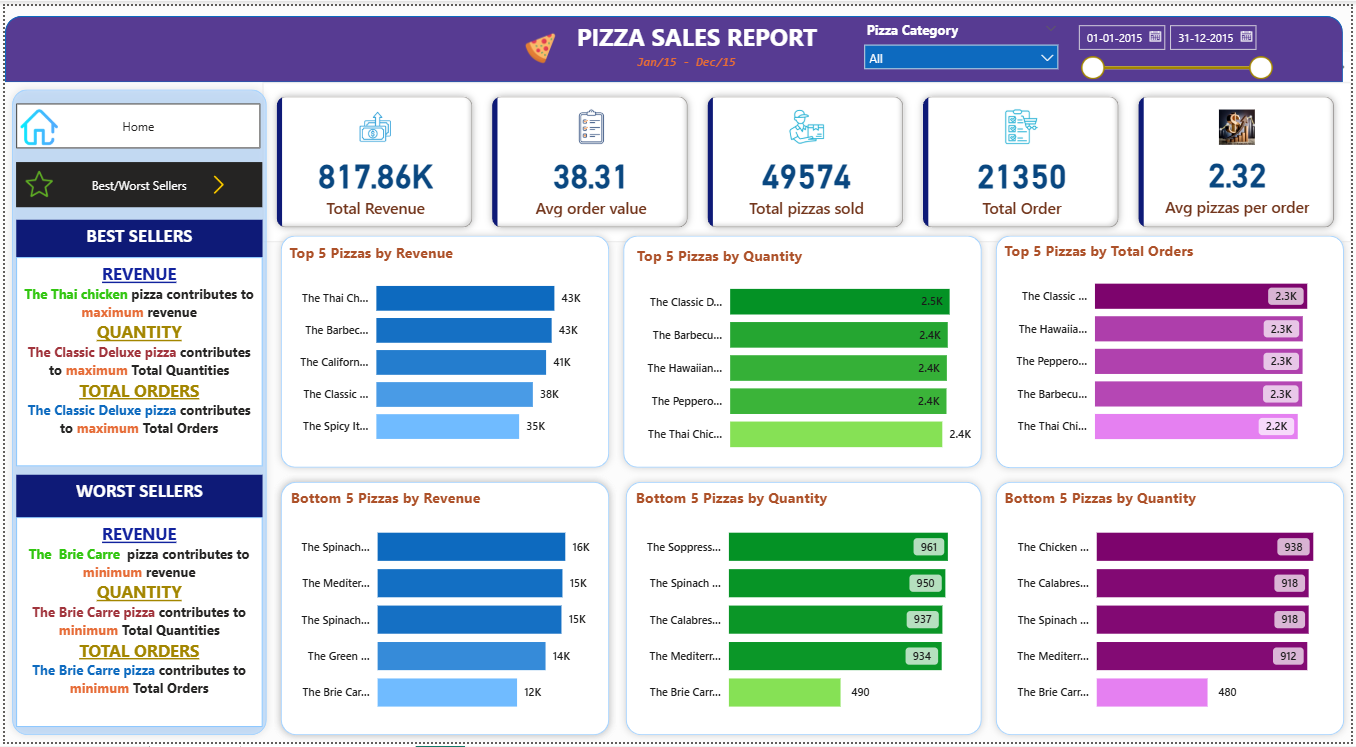

The dashboard page shown, as its layout file describes it:
{"tool":"powerbi","page":{"name":"Best/Worst Sellers","canvas":[1500,820],"ordinal":1},"visuals":[{"type":"cardVisual","fields":{"Data":["pizza_sales.Total Revenue","pizza_sales.Avg order value","pizza_sales.Total pizzas sold","pizza_sales.Total Order","pizza_sales.Avg pizzas per order"]},"box":[286.2,85.2,1214.1,178.5],"z":0},{"type":"shape","box":[0,11.3,1490.7,74],"z":1000},{"type":"textbox","box":[551.5,11.1,438.7,51.5],"z":2000},{"type":"textbox","box":[699.1,47.4,136.5,37.6],"z":3000},{"type":"image","box":[564,25.1,65.5,44.6],"z":4000},{"type":"shape","box":[299.4,247.9,381.6,274.4],"z":5000},{"type":"shape","box":[0,85,299.4,735.3],"z":6000},{"type":"textbox","box":[12.5,238.1,274.4,41.8],"z":7000},{"type":"textbox","box":[12.5,279.9,274.4,232.6],"z":8000},{"type":"textbox","box":[12.5,569.6,274.4,234],"z":9000},{"type":"textbox","box":[12.5,522.3,274.4,47.4],"z":10000},{"type":"slicer","fields":{"Values":["pizza_sales.pizza_category"]},"box":[947,11.1,236.8,73.8],"z":11000},{"type":"slicer","fields":{"Values":["pizza_sales.order_date"]},"box":[1183.8,11.1,236.8,73.8],"z":12000},{"type":"shape","box":[681,247.9,415,274.4],"z":13000},{"type":"shape","box":[1096.7,247.6,403.6,275],"z":14000},{"type":"shape","box":[299.4,522.3,381.6,298],"z":15000},{"type":"shape","box":[1096,522.3,403.9,298],"z":16000},{"type":"shape","box":[299.4,522,381.6,298],"z":17000},{"type":"shape","box":[683.8,522.3,412.2,298],"z":18000},{"type":"barChart","title":"Top 5 Pizzas by Revenue","fields":{"Category":["pizza_sales.pizza_name"],"Y":["pizza_sales.Total Revenue"]},"box":[312,263.7,355.4,239.6],"z":19000},{"type":"barChart","title":"Bottom 5 Pizzas by Revenue","fields":{"Category":["pizza_sales.pizza_name"],"Y":["pizza_sales.Total Revenue"]},"box":[313.6,535.5,355.4,266.9],"z":20000},{"type":"barChart","title":"Top 5 Pizzas by Quantity","fields":{"Category":["pizza_sales.pizza_name"],"Y":["pizza_sales.Total pizzas sold"]},"box":[699.1,266,383,246.5],"z":21000},{"type":"barChart","title":"Bottom 5 Pizzas by Quantity","fields":{"Category":["pizza_sales.pizza_name"],"Y":["pizza_sales.Total pizzas sold"]},"box":[697.9,535.5,382.7,266.9],"z":22000},{"type":"barChart","title":"Top 5 Pizzas by Total Orders","fields":{"Category":["pizza_sales.pizza_name"],"Y":["pizza_sales.Total Order"]},"box":[1108,260.5,373.1,242.8],"z":23000},{"type":"barChart","title":"Bottom 5 Pizzas by Quantity","fields":{"Category":["pizza_sales.pizza_name"],"Y":["pizza_sales.Total Order"]},"box":[1108,535.5,381.1,266.9],"z":24000},{"type":"pageNavigator","box":[12.5,174.1,274.4,50.1],"z":25000},{"type":"pageNavigator","box":[12.5,108.6,273,50.1],"z":26000},{"type":"image","box":[189.4,183.8,97.5,30.6],"z":27000},{"type":"image","box":[12.5,108.6,51.5,52.9],"z":28000},{"type":"image","box":[12.5,178.3,51.5,40.4],"z":28001}]}

Visuals, with their boxes in screenshot pixels (x1, y1, x2, y2), scaled from the page's 1500x820 canvas onto the 1356x747 screenshot:
cardVisual - pizza_sales.Total Revenue x pizza_sales.Avg order value: 259:78:1355:240
shape: 0:10:1348:78
textbox: 499:10:895:57
textbox: 632:43:755:77
image: 510:23:569:63
shape: 271:226:616:476
shape: 0:77:271:746
textbox: 11:217:259:255
textbox: 11:255:259:467
textbox: 11:519:259:732
textbox: 11:476:259:519
slicer - pizza_sales.pizza_category: 856:10:1070:77
slicer - pizza_sales.order_date: 1070:10:1284:77
shape: 616:226:991:476
shape: 991:226:1355:476
shape: 271:476:616:746
shape: 991:476:1355:746
shape: 271:476:616:746
shape: 618:476:991:746
"Top 5 Pizzas by Revenue" barChart: 282:240:603:458
"Bottom 5 Pizzas by Revenue" barChart: 283:488:605:731
"Top 5 Pizzas by Quantity" barChart: 632:242:978:467
"Bottom 5 Pizzas by Quantity" barChart: 631:488:977:731
"Top 5 Pizzas by Total Orders" barChart: 1002:237:1339:458
"Bottom 5 Pizzas by Quantity" barChart: 1002:488:1346:731
pageNavigator: 11:159:259:204
pageNavigator: 11:99:258:145
image: 171:167:259:195
image: 11:99:58:147
image: 11:162:58:199
